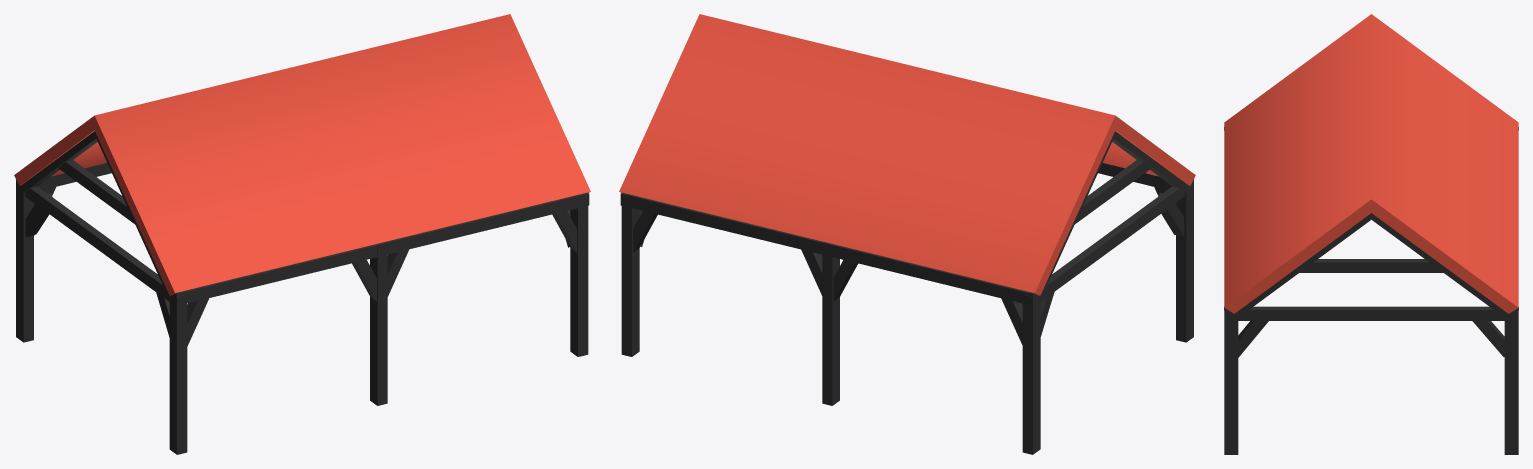
The model's file is House_09.FBX.
3 views of the same model, side by side, from view 1: azimuth 30°, elevation 25°; view 2: azimuth 150°, elevation 25°; view 3: azimuth 270°, elevation 25° (orthographic). The views are drawn at different scales.
Parts seen in each view (by area): view 1: House_09; view 2: House_09; view 3: House_09.
Boxes of the visible parts, box(x1,y1,x2,y2) form: House_09: box(14, 14, 590, 454); House_09: box(619, 14, 1195, 454); House_09: box(1224, 14, 1518, 454).
Size of the model in its own units: 9.76 by 6.3 by 6.56.
1 material, 1 textured.
